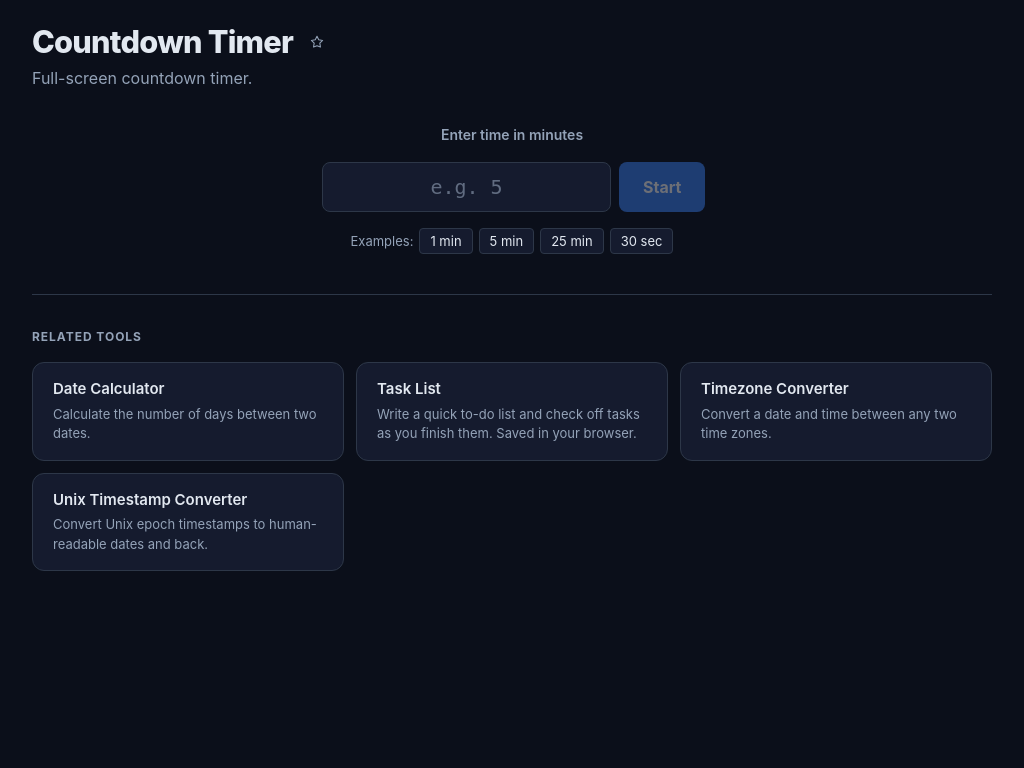
CountdownTimer — overlay › Space key pauses and resumes
In the field named "timer duration": (466, 187) [322,162,611,212], type "5"
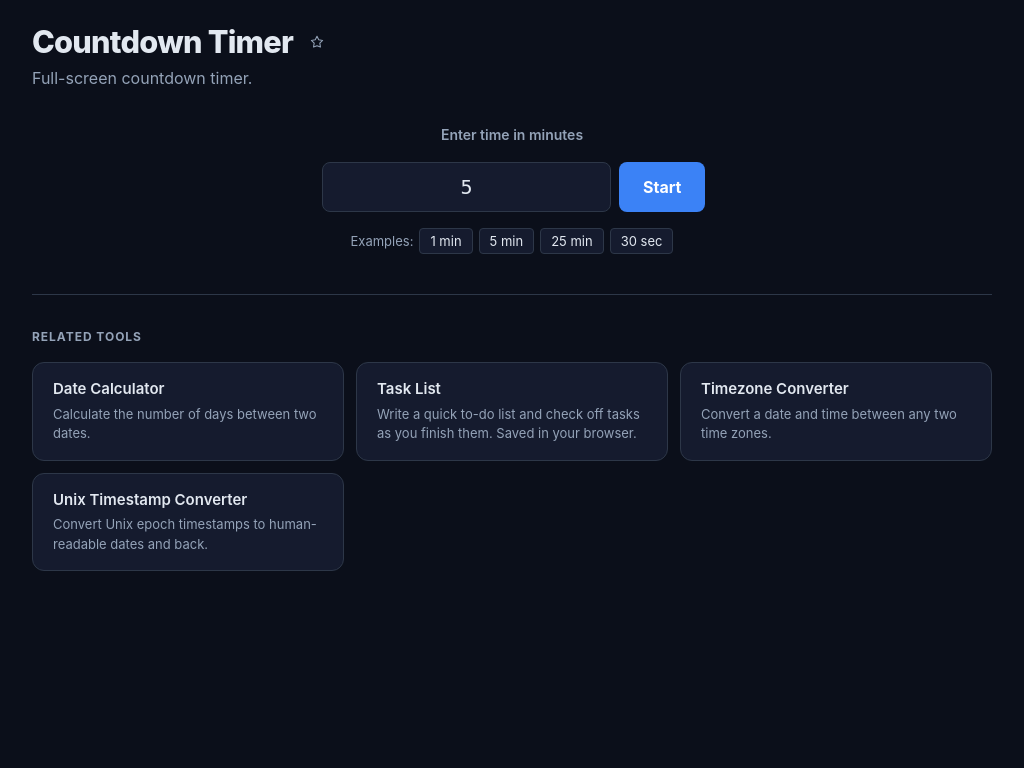
Submit the form named "timer duration", box [322,124,702,254]
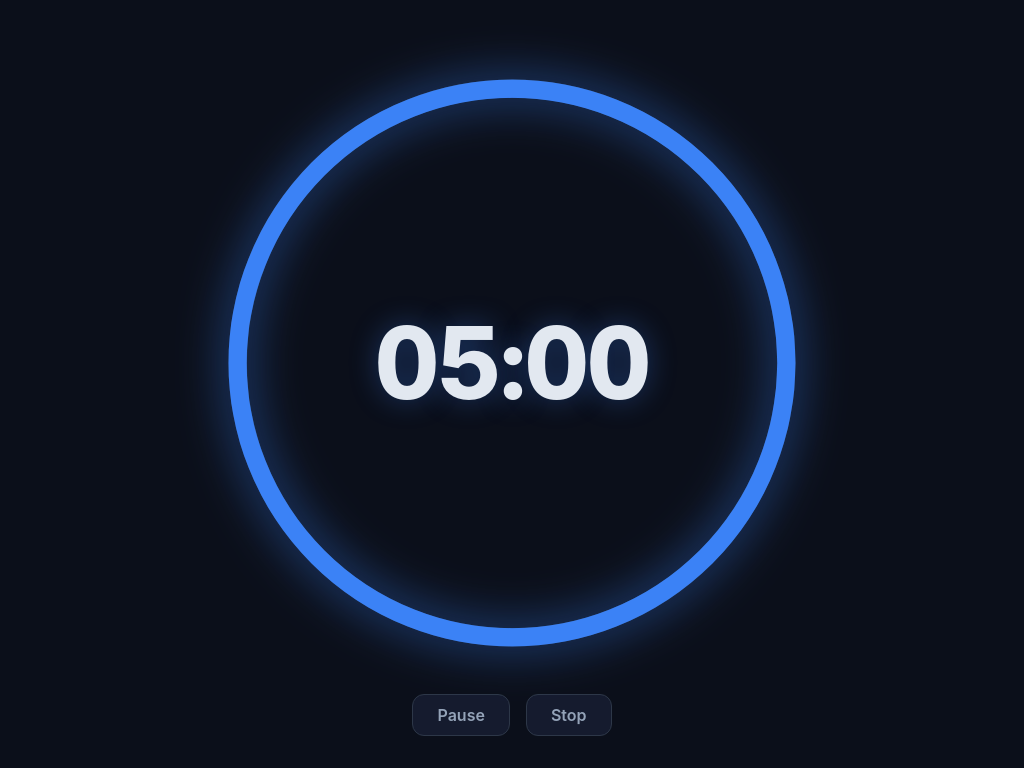
Press Space
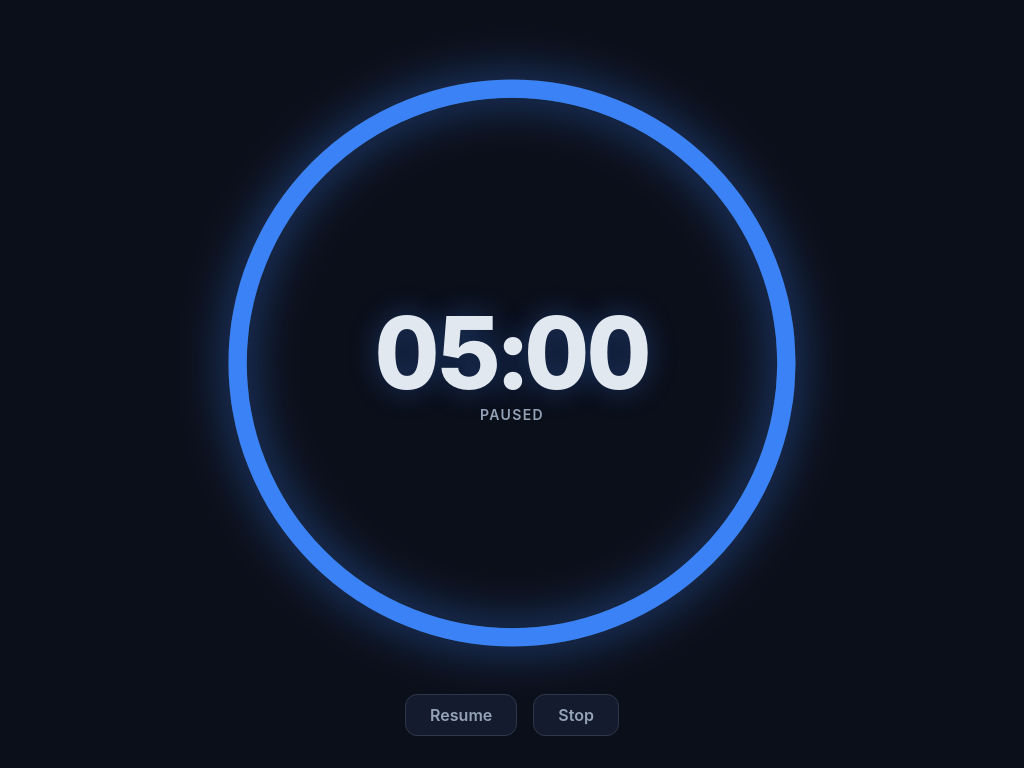
Result: the text "Paused" is shown at [480,406,544,423]
Press Space
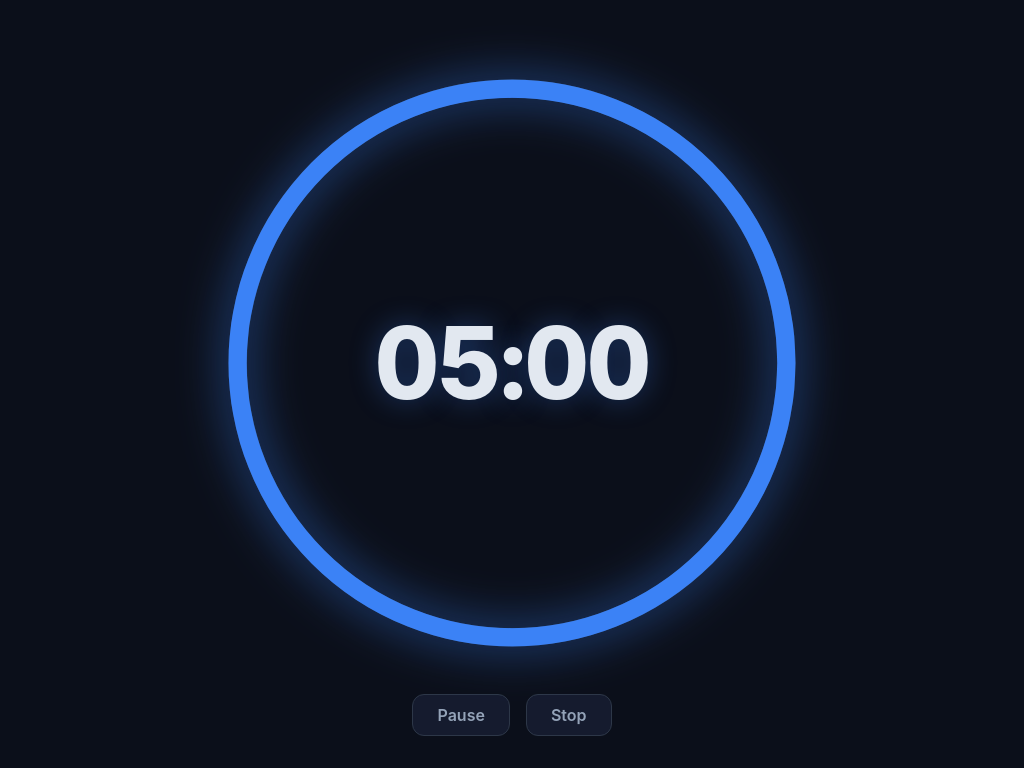
Result: the text "Paused" is gone
